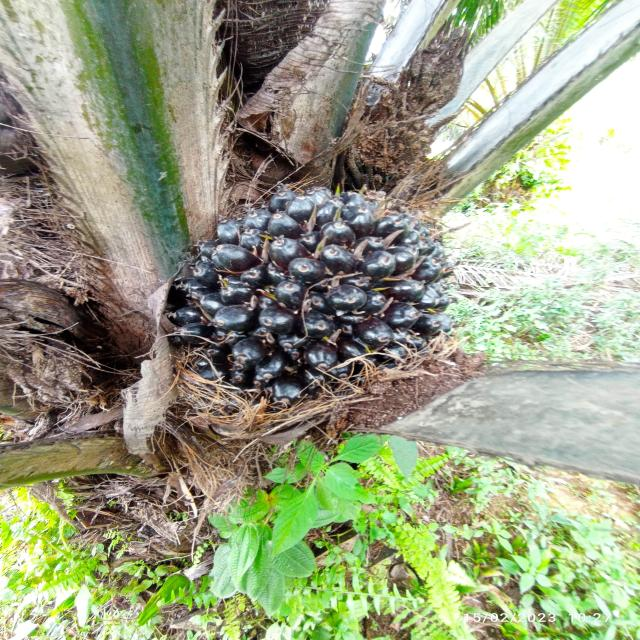fraksi 00: (79, 147, 528, 404)
